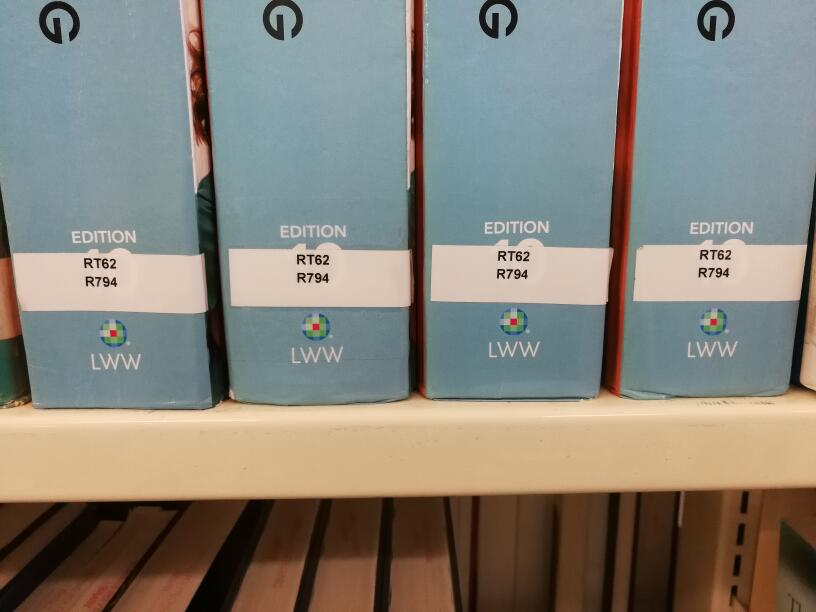booklabel: (80, 254, 119, 290), (696, 246, 733, 281), (294, 251, 330, 285), (495, 249, 532, 281)
